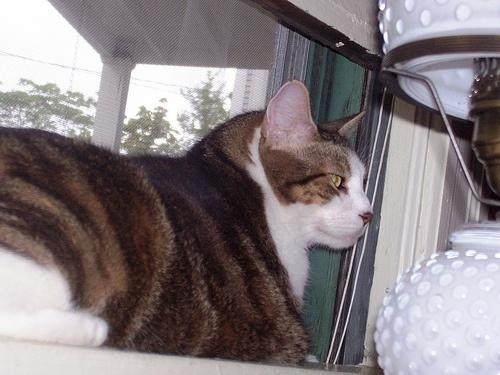cat: (1, 81, 373, 368)
